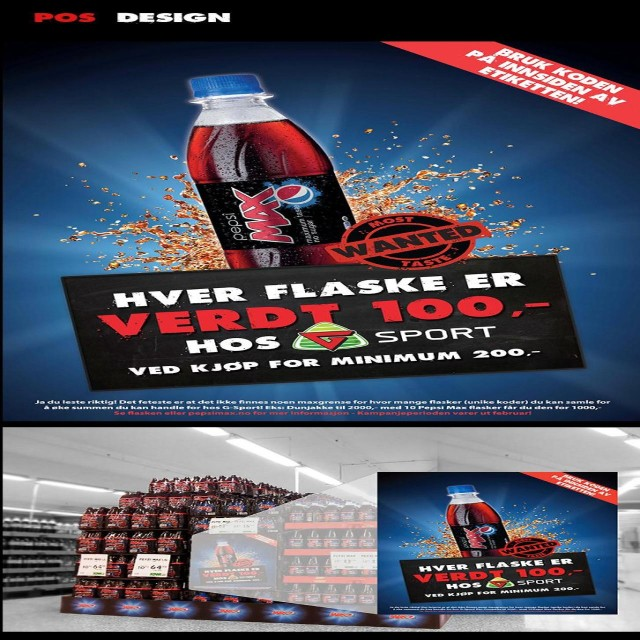pepsi: (271, 184, 318, 206)
